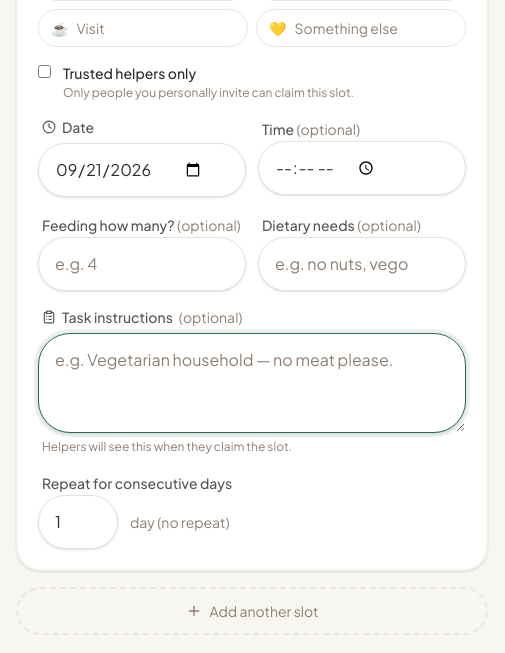
Scenario: row #144, door 2 — the setup wizard's task cards › leaving a card with a half-typed time does not save it, and no longer does so in silence
(page scrolled)
Type "No nuts, please" into the text box with placeholder "e.g. Vegetarian household — no meat please.". click: point(252, 383)
box: [38,333,466,433]
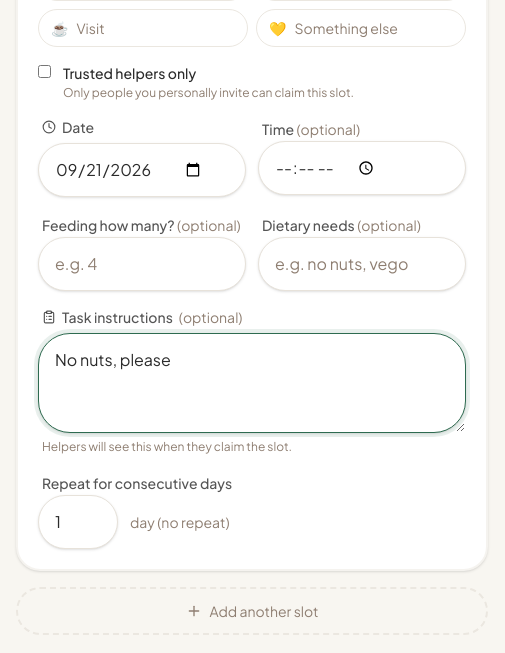
Clear the time field. click: point(362, 168)
box: [258,141,466,195]
(page scrolled)
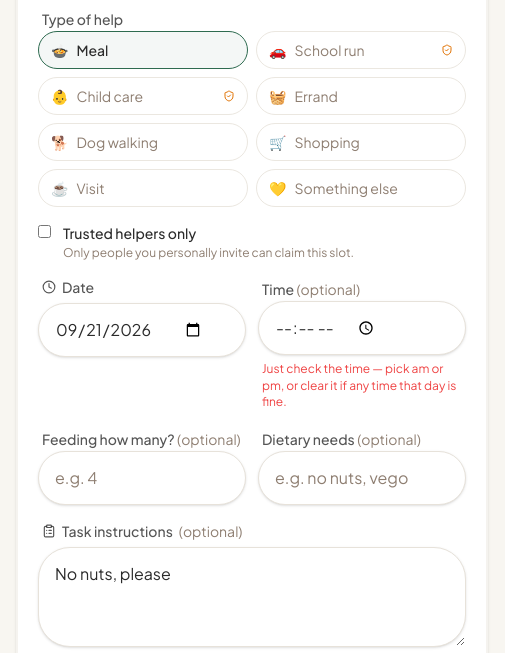
Expected: the text with test id "slot-time-help" reads "Just check the time — pick am or pm, or clear it if any time that day is fine.", [262,361,456,409]
